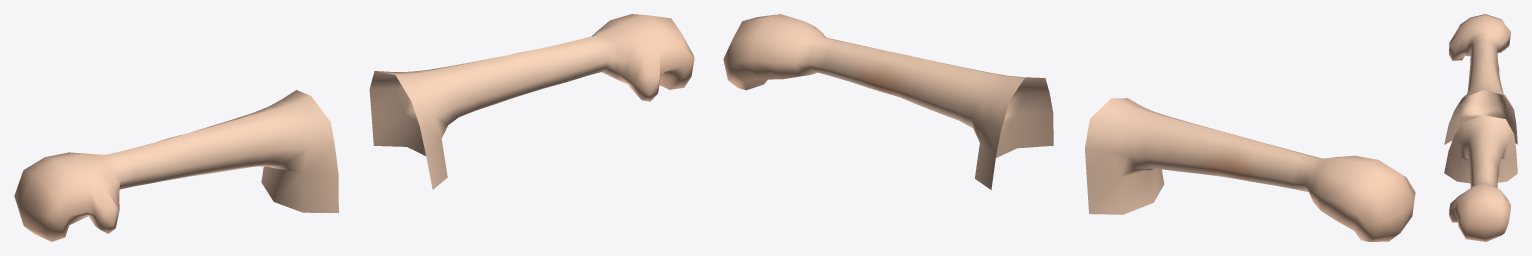
File: Body_White_ArmB_1.fbx
The picture shows the model from 3 angles, left to right: view 1: azimuth 30°, elevation 25°; view 2: azimuth 150°, elevation 25°; view 3: azimuth 270°, elevation 25°; orthographic projection. The views are drawn at different scales.
Parts seen in each view (by area): view 1: Body_White_ArmB_1; view 2: Body_White_ArmB_1; view 3: Body_White_ArmB_1.
Boxes of the visible parts, box(x1,y1,x2,y2) form: Body_White_ArmB_1: box(14, 14, 694, 241); Body_White_ArmB_1: box(723, 14, 1415, 241); Body_White_ArmB_1: box(1444, 14, 1517, 241).
Bounding box in the file's own units: 130 × 17.74 × 20.37.
